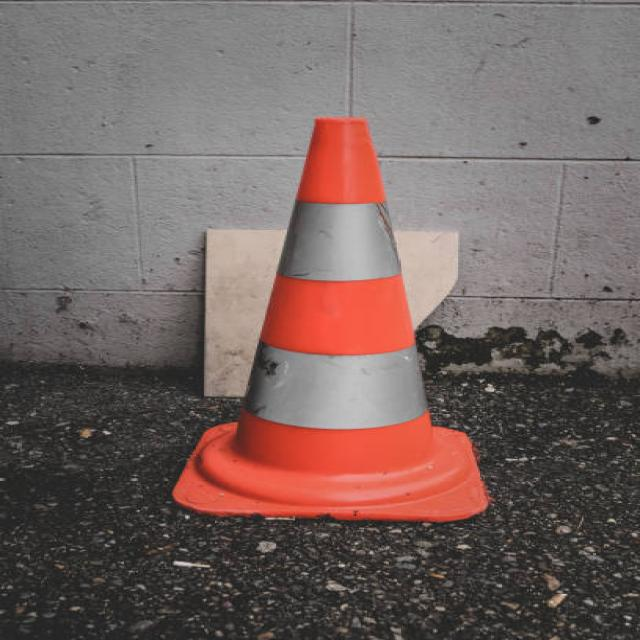Traffic Cone: (147, 68, 518, 544)
